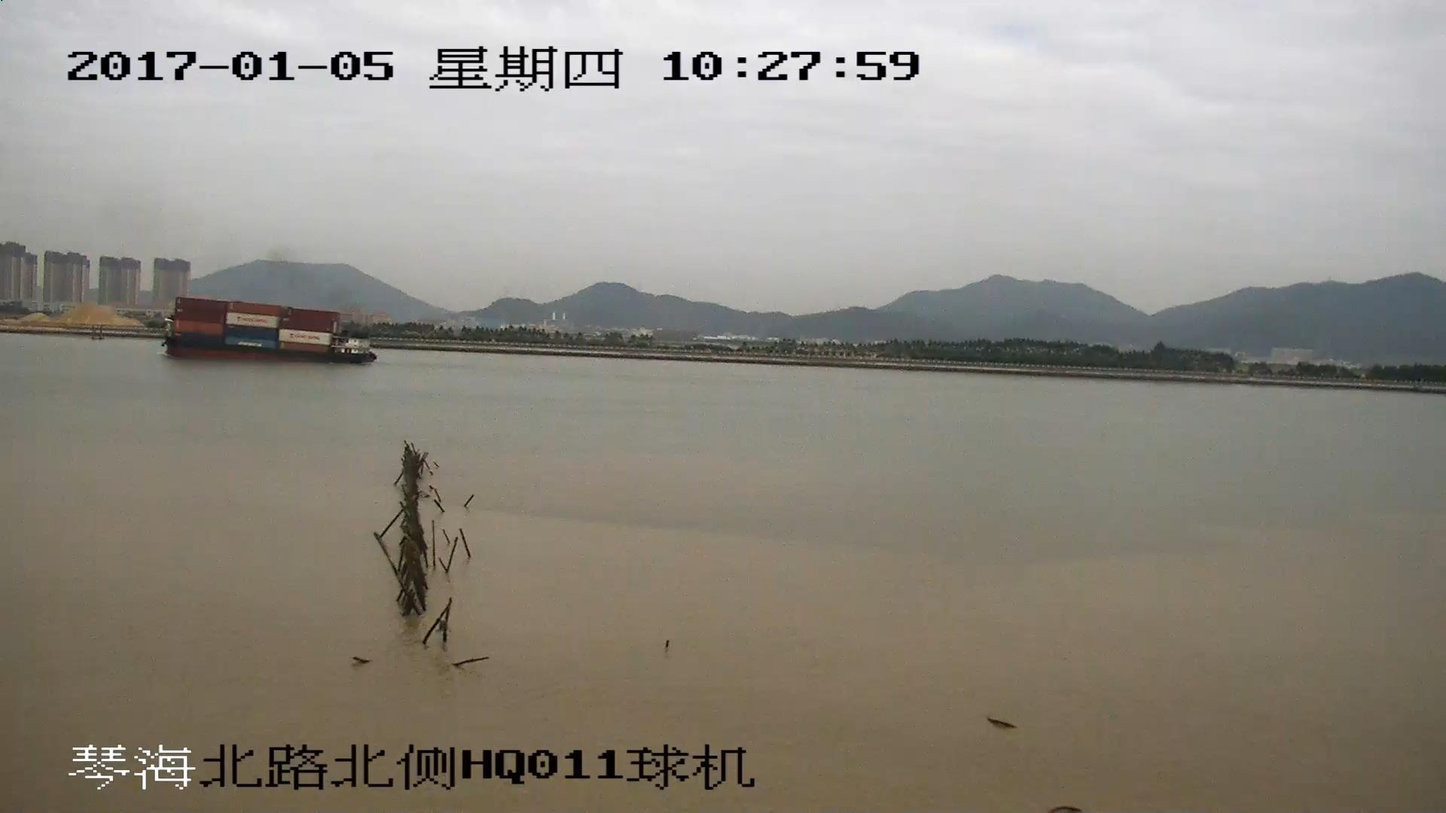container ship: (157, 296, 374, 365)
